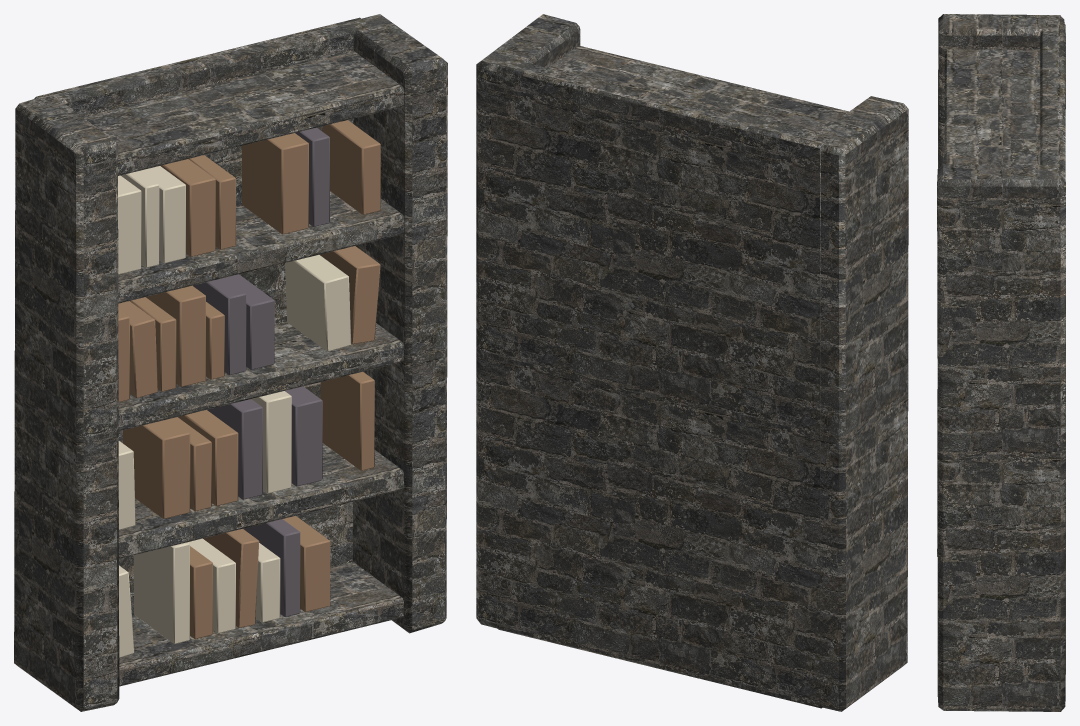
File: ancient-bookshelf-v01.glb
3 views of the same model, side by side, from view 1: azimuth 30°, elevation 25°; view 2: azimuth 150°, elevation 25°; view 3: azimuth 270°, elevation 25° (orthographic). The views are drawn at different scales.
Visible parts, largest first — view 1: ancient-bookshelf; view 2: ancient-bookshelf; view 3: ancient-bookshelf.
Part boxes in pixels (box(x1,y1,x2,y2)): ancient-bookshelf: box(14, 14, 447, 711); ancient-bookshelf: box(476, 14, 908, 711); ancient-bookshelf: box(937, 14, 1065, 711).
Bounding box in the file's own units: 1.58 × 2.31 × 0.5053.
Materials: 4 (1 with a texture image).
